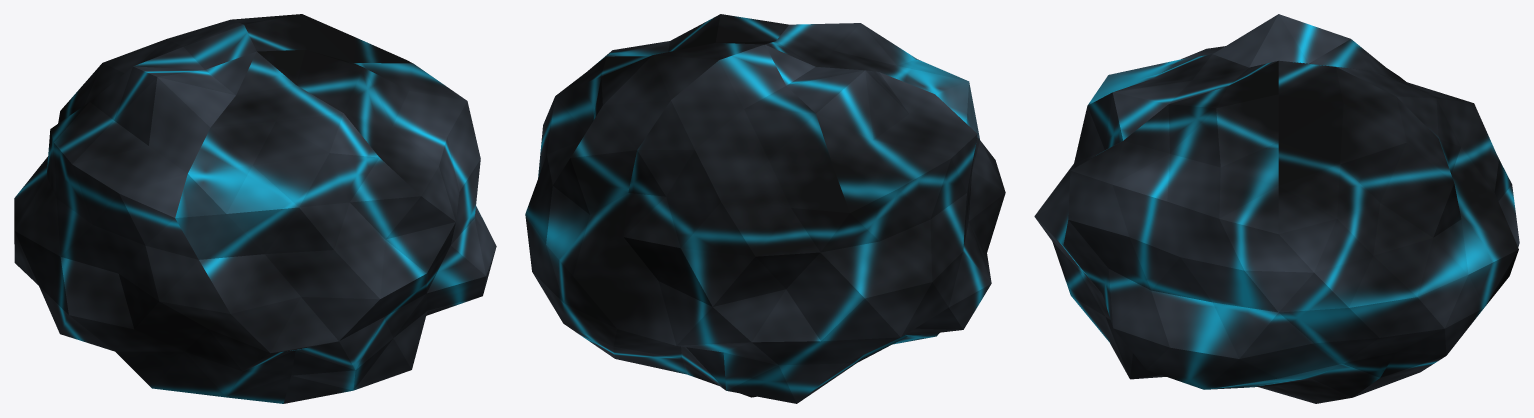
The model's file is ArcaneOre.fbx.
The picture shows the model from 3 angles, left to right: view 1: azimuth 30°, elevation 25°; view 2: azimuth 150°, elevation 25°; view 3: azimuth 270°, elevation 25°; orthographic projection. The views are drawn at different scales.
Parts seen in each view (by area): view 1: Fractured mineral matrix; view 2: Fractured mineral matrix; view 3: Fractured mineral matrix.
Boxes of the visible parts, bbox=[...] form: Fractured mineral matrix: bbox=[14, 14, 496, 403]; Fractured mineral matrix: bbox=[525, 14, 1005, 403]; Fractured mineral matrix: bbox=[1034, 14, 1519, 403].
Size of the model in its own units: 0.3285 by 0.2517 by 0.3422.
